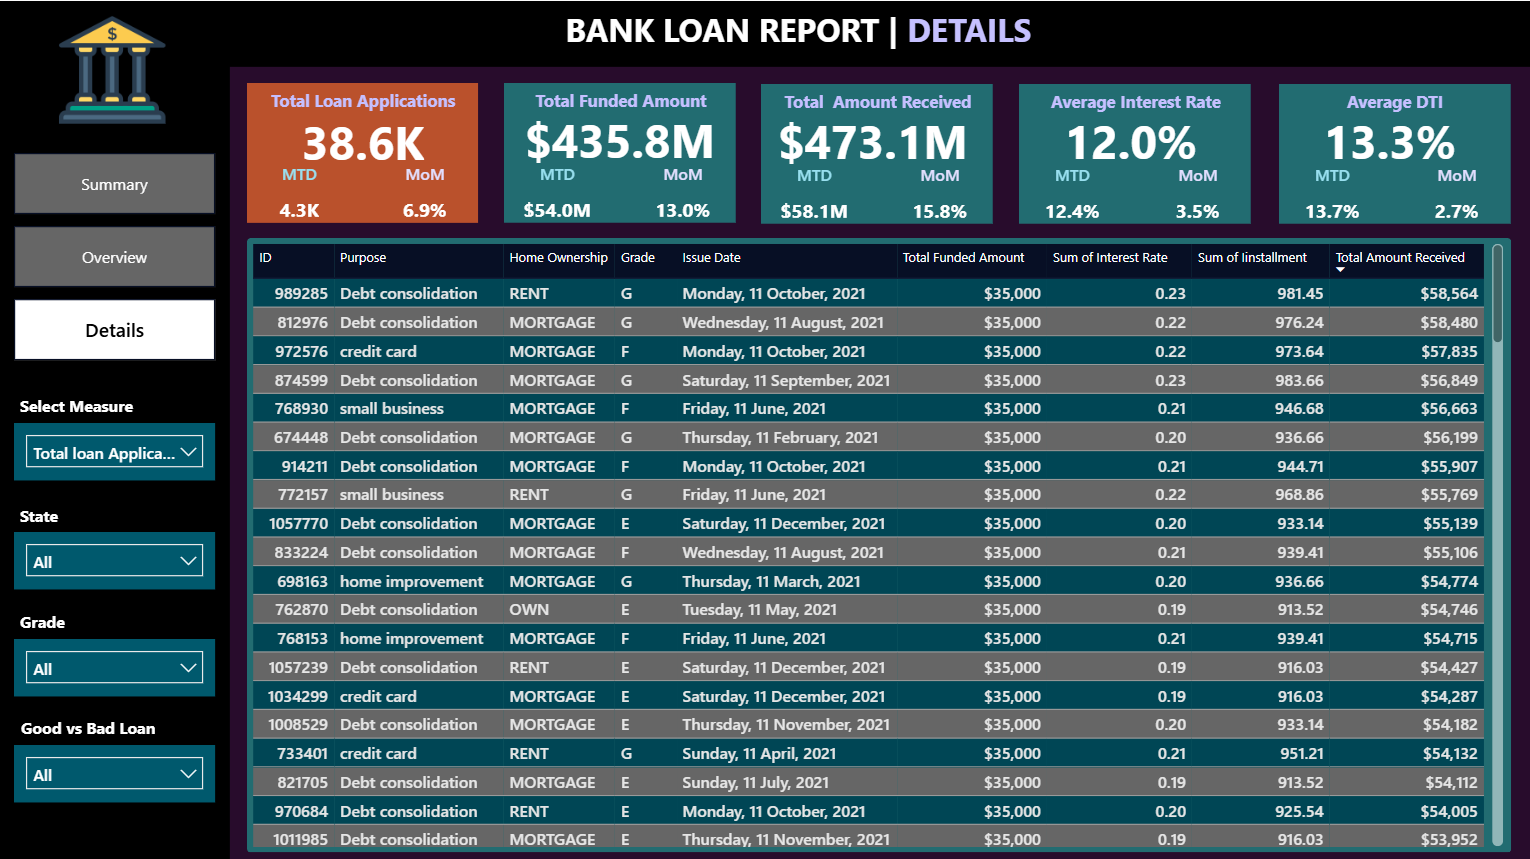

The page's visual inventory and layout, read from the dashboard file:
{"tool":"powerbi","page":{"name":"Details","canvas":[1280,720],"ordinal":2},"visuals":[{"type":"shape","box":[0,54.6,192.1,665.5],"z":0},{"type":"shape","box":[206.5,68.3,193.4,116.8],"z":0,"group":"g1"},{"type":"shape","box":[421,68.3,193.6,116.7],"z":0,"group":"g3"},{"type":"shape","box":[636.1,69.2,193.6,116.7],"z":0,"group":"g4"},{"type":"shape","box":[850.9,69.2,193.6,116.7],"z":0,"group":"g5"},{"type":"shape","box":[1067.6,69.2,193.6,116.7],"z":0,"group":"g6"},{"type":"cardVisual","fields":{"Data":["financial_loan.Total Funded Amount"]},"box":[393.3,74.6,249.4,72.8],"z":1000,"group":"g3"},{"type":"cardVisual","fields":{"Data":["financial_loan.Total Amount Received"]},"box":[610.9,74.7,237.6,73.7],"z":1000,"group":"g4"},{"type":"cardVisual","fields":{"Data":["financial_loan.Avg Interest Rate"]},"box":[825.7,74.7,237.6,73.7],"z":1000,"group":"g5"},{"type":"cardVisual","fields":{"Data":["financial_loan.Avg DTI"]},"box":[1042,74.8,237.6,73.7],"z":1000,"group":"g6"},{"type":"cardVisual","fields":{"Data":["financial_loan.Total loan Applications"]},"box":[206.5,76.4,194.4,72.5],"z":1000,"group":"g1"},{"type":"textbox","box":[206.3,68.6,193.8,28.8],"z":2000,"group":"g1"},{"type":"textbox","box":[421.6,68.6,193.8,28.8],"z":2000,"group":"g3"},{"type":"textbox","box":[636.8,69.5,193.8,28.8],"z":2000,"group":"g4"},{"type":"textbox","box":[851.6,69.5,193.8,28.8],"z":2000,"group":"g5"},{"type":"textbox","box":[1068.2,69.5,193.8,28.8],"z":2000,"group":"g6"},{"type":"cardVisual","title":"MTD","fields":{"Data":["financial_loan.MTD Loan Applicaitons"]},"box":[205.7,134.9,89.4,50],"z":3000,"group":"g1"},{"type":"cardVisual","title":"MTD","fields":{"Data":["financial_loan.MTD Funded Amount"]},"box":[421,134.9,89.4,50],"z":3000,"group":"g3"},{"type":"cardVisual","title":"MTD","fields":{"Data":["financial_loan.MTD Total Amount Received"]},"box":[636.1,135.8,89.4,50],"z":3000,"group":"g4"},{"type":"cardVisual","title":"MTD","fields":{"Data":["financial_loan.MTD Avg Interest Rate"]},"box":[850.9,135.8,89.4,50],"z":3000,"group":"g5"},{"type":"cardVisual","title":"MTD","fields":{"Data":["financial_loan.MTD Avg DTI"]},"box":[1067.6,135.8,89.4,50],"z":3000,"group":"g6"},{"type":"shape","box":[206.6,197.7,1056.1,513.4],"z":3000},{"type":"group","id":"g1","title":"Group 2","box":[205.7,68.3,195.5,116.7],"z":3001,"group":"g2"},{"type":"shape","box":[0,0,1280,55.4],"z":4000},{"type":"cardVisual","title":"MoM","fields":{"Data":["financial_loan.MoM Loan Application"]},"box":[310.7,135.5,88.8,50],"z":4000,"group":"g1"},{"type":"cardVisual","title":"MoM","fields":{"Data":["financial_loan.MoM Total Funded Amount"]},"box":[526,135.5,88.8,50],"z":4000,"group":"g3"},{"type":"cardVisual","title":"MoM","fields":{"Data":["financial_loan.MoM Total Amount Received"]},"box":[741.1,136.4,88.8,50],"z":4000,"group":"g4"},{"type":"cardVisual","title":"MoM","fields":{"Data":["financial_loan.MoM Avg Interest Rate"]},"box":[955.9,136.4,88.8,50],"z":4000,"group":"g5"},{"type":"cardVisual","title":"MoM","fields":{"Data":["financial_loan.MoM Avg DTI"]},"box":[1172.6,136.4,88.8,50],"z":4000,"group":"g6"},{"type":"textbox","box":[442.6,0,448.4,71],"z":5000},{"type":"group","id":"g2","title":"Group 1","box":[205.7,68.3,195.7,116.5],"z":7000},{"type":"group","id":"g3","title":"Group 3","box":[393.3,68.3,249.4,117.4],"z":9000},{"type":"group","id":"g4","title":"Group 3","box":[610.9,69.2,237.6,117.4],"z":11000},{"type":"group","id":"g5","title":"Group 3","box":[825.7,69.2,237.6,117.4],"z":12000},{"type":"group","id":"g6","title":"Group 3","box":[1042,69.2,237.6,117.2],"z":13000},{"type":"slicer","fields":{"Values":["financial_loan.Good vs Bad Loan"]},"box":[11.8,620.9,168.4,48.3],"z":13250,"group":"g7"},{"type":"textbox","box":[11.8,415.1,55.5,29.1],"z":14000},{"type":"textbox","box":[12.8,592,159.6,29.3],"z":14000,"group":"g7"},{"type":"slicer","fields":{"Values":["financial_loan.address_state"]},"box":[11.8,443.4,168.4,48.3],"z":15000},{"type":"textbox","box":[11.8,503.4,55.5,29.1],"z":16000},{"type":"slicer","fields":{"Values":["financial_loan.grade"]},"box":[11.8,532.6,168.4,48.3],"z":17000},{"type":"slicer","fields":{"Values":["Select Measure.Select Measure"]},"box":[11.8,352.3,168.4,48.3],"z":18000},{"type":"group","id":"g7","title":"Group 4","box":[11.8,592,168.4,77.2],"z":20000},{"type":"textbox","box":[11.8,323.2,113.8,29.1],"z":22000},{"type":"tableEx","fields":{"Values":["financial_loan.id","financial_loan.purpose","financial_loan.home_ownership","financial_loan.grade","financial_loan.issue_date","financial_loan.Total Funded Amount","Sum(financial_loan.int_rate)","Sum(financial_loan.installment)","financial_loan.Total Amount Received"]},"box":[205.7,197.7,1055.2,513.4],"z":22001},{"type":"group","id":"g8","title":"Group 5","box":[11.6,2.7,168.5,298.8],"z":22002},{"type":"pageNavigator","box":[11.6,126.8,168.5,174.7],"z":27000,"group":"g8"},{"type":"image","box":[44.4,2.7,99.3,110],"z":28000,"group":"g8"}]}

Visuals, with their boxes in screenshot pixels (x1, y1, x2, y2), scaled from the page's 1280x720 canvas onto the 1530x859 screenshot:
shape: crop(0, 65, 230, 858)
shape: crop(247, 81, 478, 221)
shape: crop(503, 81, 735, 221)
shape: crop(760, 83, 992, 222)
shape: crop(1017, 83, 1249, 222)
shape: crop(1276, 83, 1508, 222)
cardVisual - financial_loan.Total Funded Amount: crop(470, 89, 768, 176)
cardVisual - financial_loan.Total Amount Received: crop(730, 89, 1014, 177)
cardVisual - financial_loan.Avg Interest Rate: crop(987, 89, 1271, 177)
cardVisual - financial_loan.Avg DTI: crop(1246, 89, 1529, 177)
cardVisual - financial_loan.Total loan Applications: crop(247, 91, 479, 178)
textbox: crop(247, 82, 478, 116)
textbox: crop(504, 82, 736, 116)
textbox: crop(761, 83, 993, 117)
textbox: crop(1018, 83, 1250, 117)
textbox: crop(1277, 83, 1508, 117)
"MTD" cardVisual: crop(246, 161, 353, 221)
"MTD" cardVisual: crop(503, 161, 610, 221)
"MTD" cardVisual: crop(760, 162, 867, 222)
"MTD" cardVisual: crop(1017, 162, 1124, 222)
"MTD" cardVisual: crop(1276, 162, 1383, 222)
shape: crop(247, 236, 1509, 848)
"Group 2" group: crop(246, 81, 480, 221)
shape: crop(0, 0, 1529, 66)
"MoM" cardVisual: crop(371, 162, 478, 221)
"MoM" cardVisual: crop(629, 162, 735, 221)
"MoM" cardVisual: crop(886, 163, 992, 222)
"MoM" cardVisual: crop(1143, 163, 1249, 222)
"MoM" cardVisual: crop(1402, 163, 1508, 222)
textbox: crop(529, 0, 1065, 85)
"Group 1" group: crop(246, 81, 480, 220)
"Group 3" group: crop(470, 81, 768, 222)
"Group 3" group: crop(730, 83, 1014, 223)
"Group 3" group: crop(987, 83, 1271, 223)
"Group 3" group: crop(1246, 83, 1529, 222)
slicer - financial_loan.Good vs Bad Loan: crop(14, 741, 215, 798)
textbox: crop(14, 495, 80, 530)
textbox: crop(15, 706, 206, 741)
slicer - financial_loan.address_state: crop(14, 529, 215, 587)
textbox: crop(14, 601, 80, 635)
slicer - financial_loan.grade: crop(14, 635, 215, 693)
slicer - Select Measure.Select Measure: crop(14, 420, 215, 478)
"Group 4" group: crop(14, 706, 215, 798)
textbox: crop(14, 386, 150, 420)
tableEx - financial_loan.id x financial_loan.purpose: crop(246, 236, 1507, 848)
"Group 5" group: crop(14, 3, 215, 360)
pageNavigator: crop(14, 151, 215, 360)
image: crop(53, 3, 172, 134)
